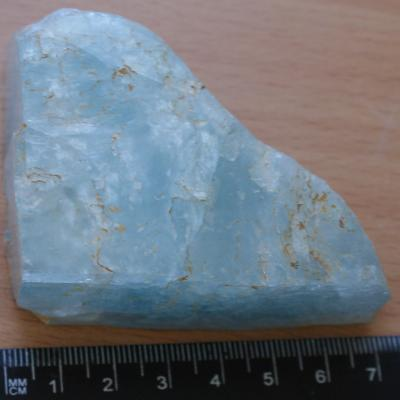mineralogy: (4, 8, 392, 331)
